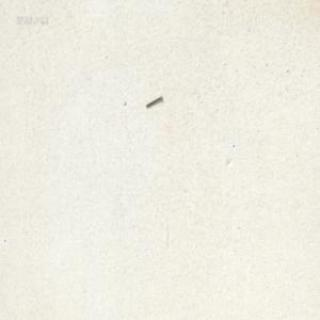Bolttrack_idkeyframe: (144, 93, 161, 106)
